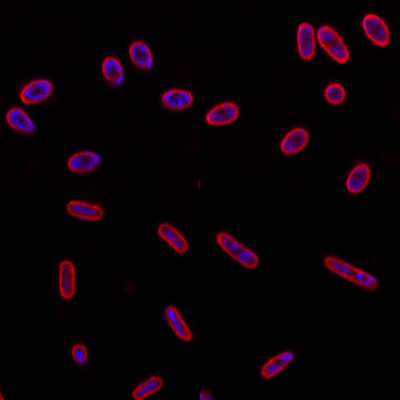Control: (322, 255, 378, 290), (216, 231, 259, 270)
MP265: (317, 22, 351, 66), (361, 13, 390, 47), (19, 77, 54, 105), (295, 20, 317, 61), (278, 127, 310, 155), (344, 162, 371, 194), (205, 101, 239, 126), (128, 41, 153, 71), (160, 88, 194, 110), (322, 81, 347, 105)
Oblique: (258, 351, 294, 379), (66, 149, 104, 175), (3, 108, 36, 134), (99, 55, 124, 85), (70, 341, 90, 365)
Rifampicin: (163, 304, 194, 343), (157, 221, 188, 254), (129, 374, 165, 400), (56, 258, 76, 301), (66, 200, 104, 222)
